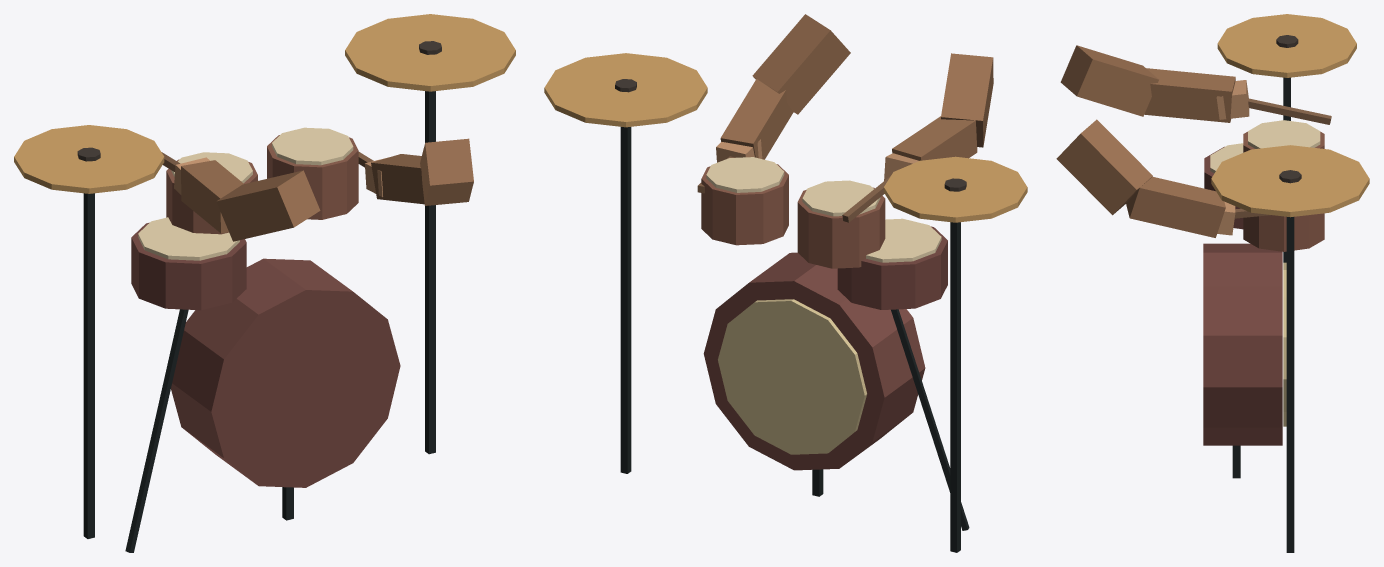
File: lwf_performer_compact_drum_kit_v1.glb
3 views of the same model, side by side, from view 1: azimuth 30°, elevation 25°; view 2: azimuth 150°, elevation 25°; view 3: azimuth 270°, elevation 25° (orthographic). The views are drawn at different scales.
Parts seen in each view (by area): view 1: LWF_Drummer_DrumShells, LWF_Drummer_CymbalsHardware, LWF_Drummer_LeftPlayingArm, LWF_Drummer_RightPlayingArm; view 2: LWF_Drummer_DrumShells, LWF_Drummer_CymbalsHardware, LWF_Drummer_RightPlayingArm, LWF_Drummer_LeftPlayingArm; view 3: LWF_Drummer_DrumShells, LWF_Drummer_CymbalsHardware, LWF_Drummer_LeftPlayingArm, LWF_Drummer_RightPlayingArm.
Part boxes in pixels (x1,y1,x2,y2): LWF_Drummer_DrumShells: (131,127,400,520); LWF_Drummer_CymbalsHardware: (14,14,515,552); LWF_Drummer_LeftPlayingArm: (161,152,320,241); LWF_Drummer_RightPlayingArm: (358,138,473,205); LWF_Drummer_DrumShells: (701,157,947,496); LWF_Drummer_CymbalsHardware: (544,53,1027,552); LWF_Drummer_RightPlayingArm: (697,14,850,193); LWF_Drummer_LeftPlayingArm: (842,53,993,222); LWF_Drummer_DrumShells: (1203,120,1324,478); LWF_Drummer_CymbalsHardware: (1211,14,1369,552); LWF_Drummer_LeftPlayingArm: (1060,45,1331,124); LWF_Drummer_RightPlayingArm: (1056,119,1270,237).
Bounding box in the file's own units: 1.63 × 1.36 × 0.9891.
Materials: 1 (1 with a texture image).
